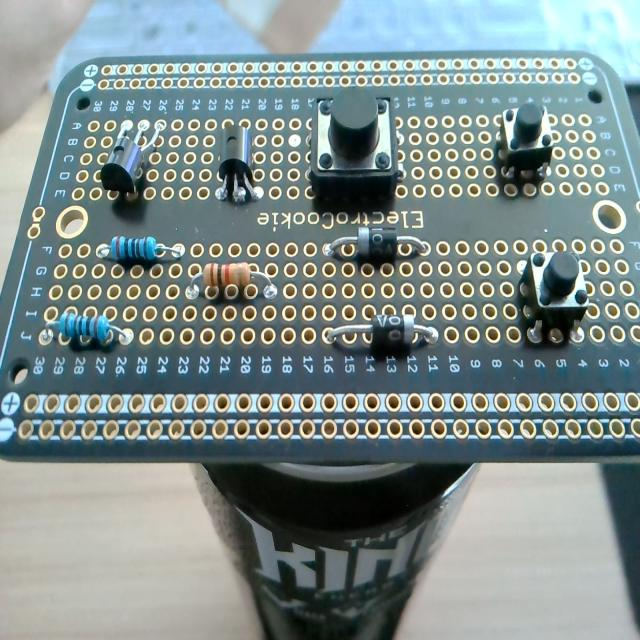diode: (326, 314, 442, 349), (326, 230, 432, 260)
resistor: (185, 262, 278, 301), (43, 309, 132, 346), (98, 235, 182, 262)
switch: (307, 88, 402, 204), (520, 248, 591, 340), (499, 102, 555, 178)
transistor: (104, 112, 162, 199), (215, 123, 262, 204)
